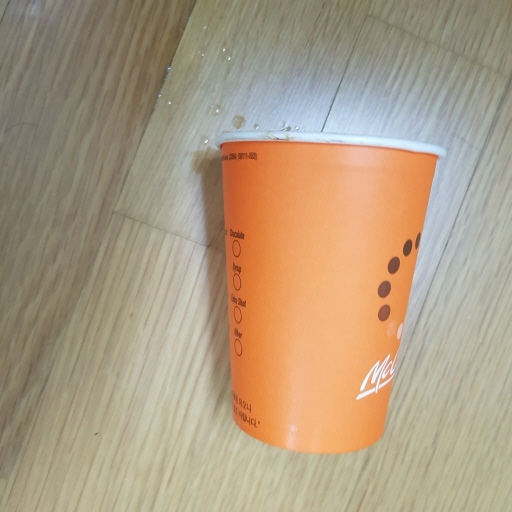Paper_1: (211, 126, 448, 451)
